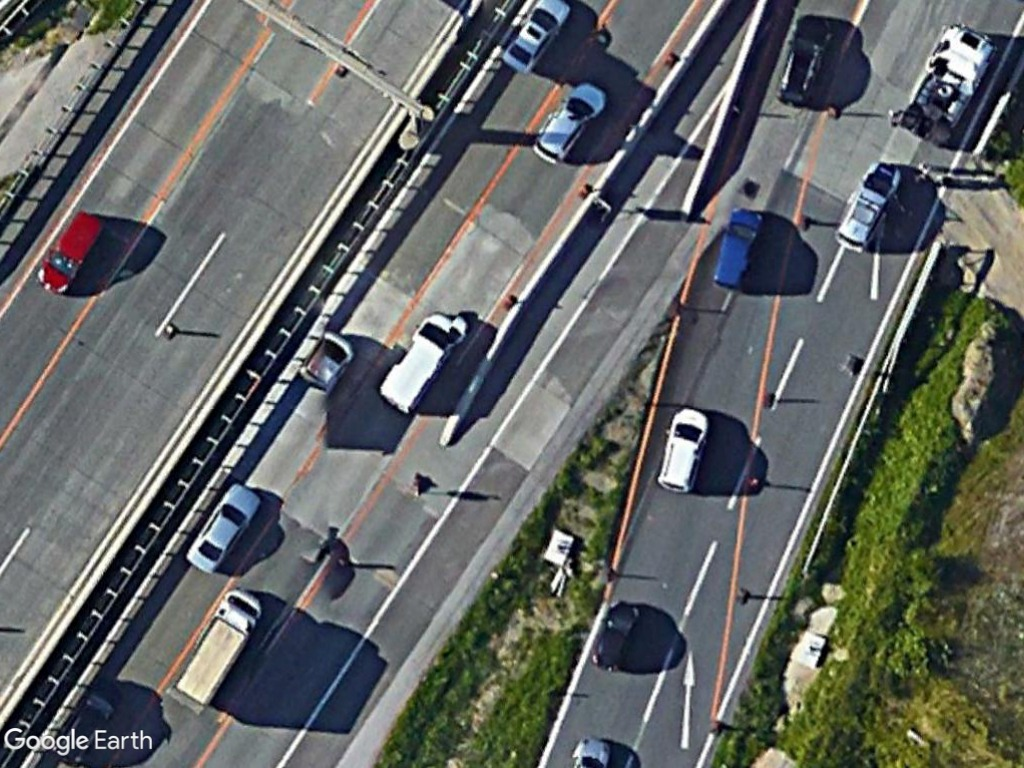car: (181, 474, 267, 578), (527, 75, 610, 169), (32, 200, 106, 300), (652, 398, 712, 496), (502, 0, 577, 78), (707, 201, 768, 296), (587, 594, 648, 676)
van: (170, 584, 268, 709), (370, 306, 462, 421)
